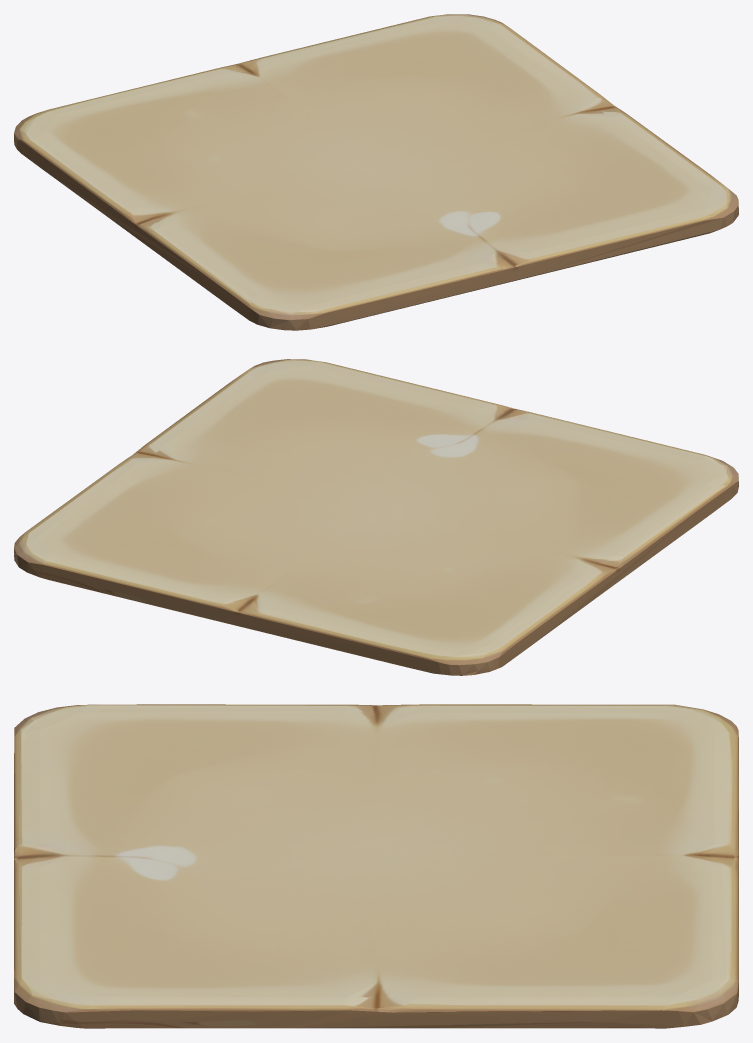
File: baldosa_camino_01.glb
3 views of the same model, one above another, from view 1: azimuth 30°, elevation 25°; view 2: azimuth 150°, elevation 25°; view 3: azimuth 270°, elevation 25° (orthographic). The views are drawn at different scales.
Parts seen in each view (by area): view 1: BaldosaCamino_01; view 2: BaldosaCamino_01; view 3: BaldosaCamino_01.
Boxes of the visible parts, x1,y1,x2,y2 form: BaldosaCamino_01: (14,14,738,330); BaldosaCamino_01: (14,359,738,675); BaldosaCamino_01: (14,704,738,1028).
Size of the model in its own units: 0.98 by 0.035 by 0.98.
Materials: 1 (1 with a texture image).
